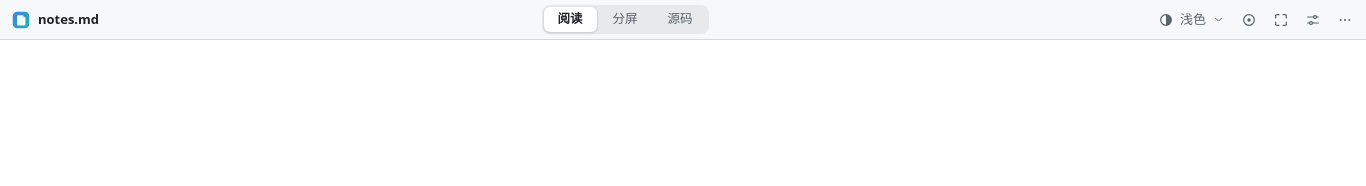
Test: TitleBar › picks a theme from the dropdown and closes the menu
Click the button titled "切换主题". click: point(1192, 20)
box: top-left (1151, 6), bottom-right (1232, 34)
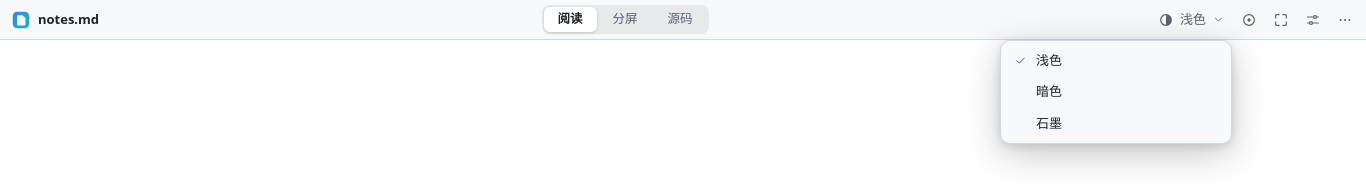
Click the menu item "暗色". click: point(1116, 92)
box: top-left (1005, 76), bottom-right (1227, 108)
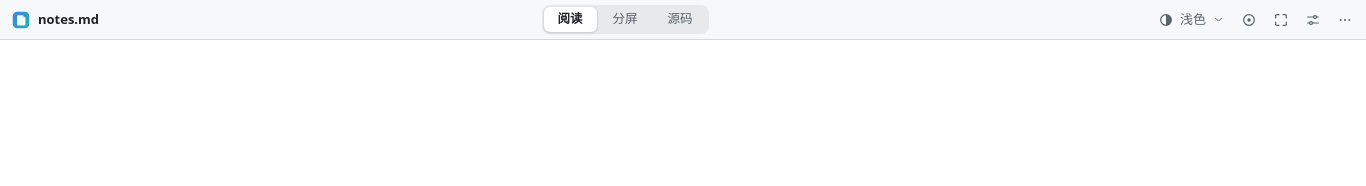
Expected: the menu is gone
